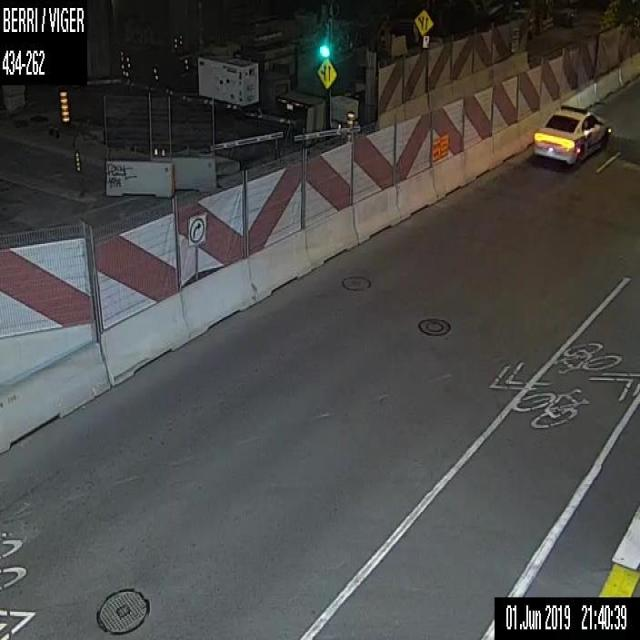construction: (0, 0, 639, 451), (343, 107, 356, 141), (59, 89, 70, 128)
vehicle: (529, 103, 611, 165)
